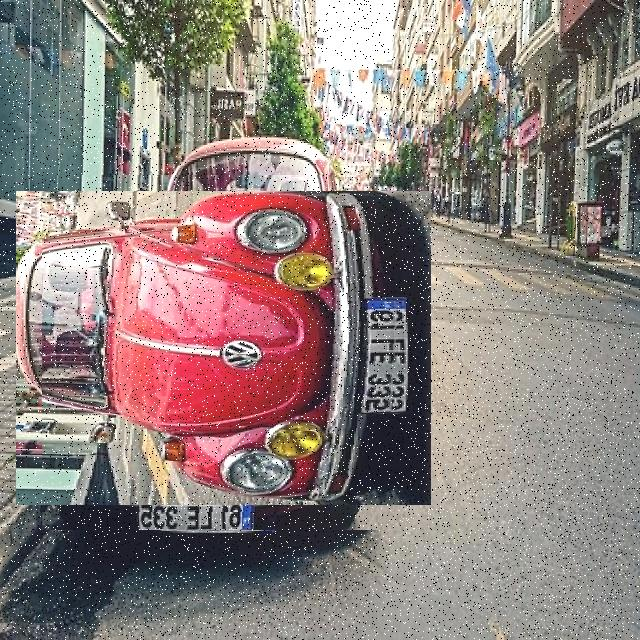car: (43, 167, 407, 531)
